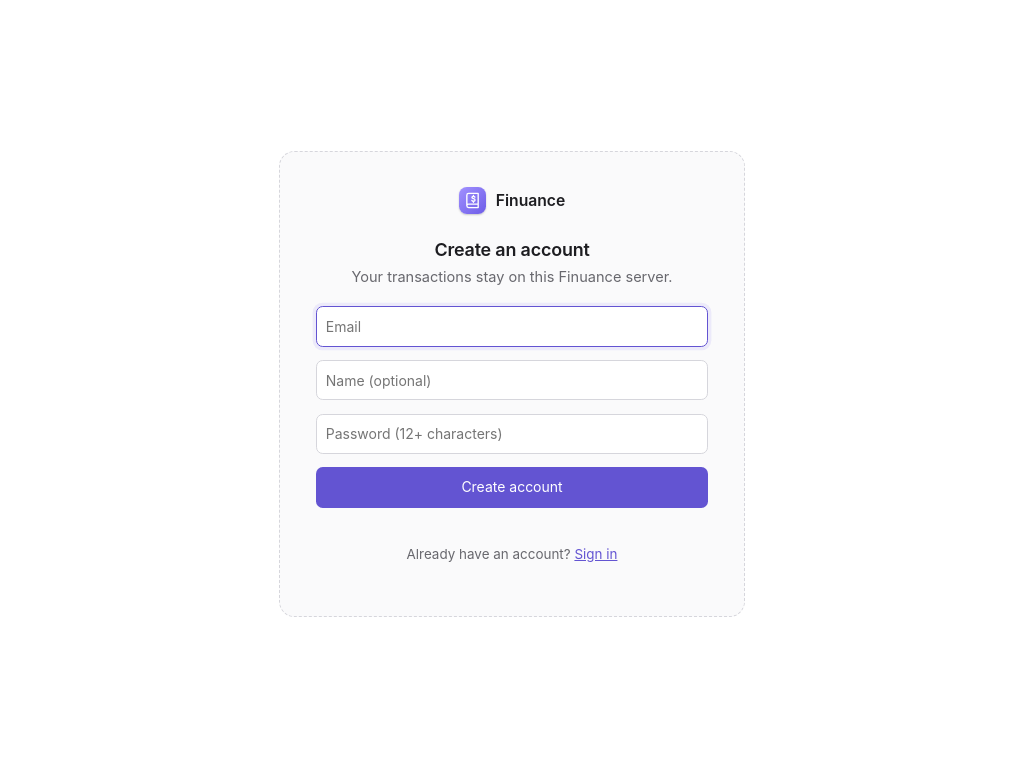
it: signup › checks the password length, then creates the account and opens the app
This screenshot has width=1024, height=768.
Type "new@example.com" into the field labelled "Email" at (512, 326), box top-left (316, 306), bottom-right (708, 346)
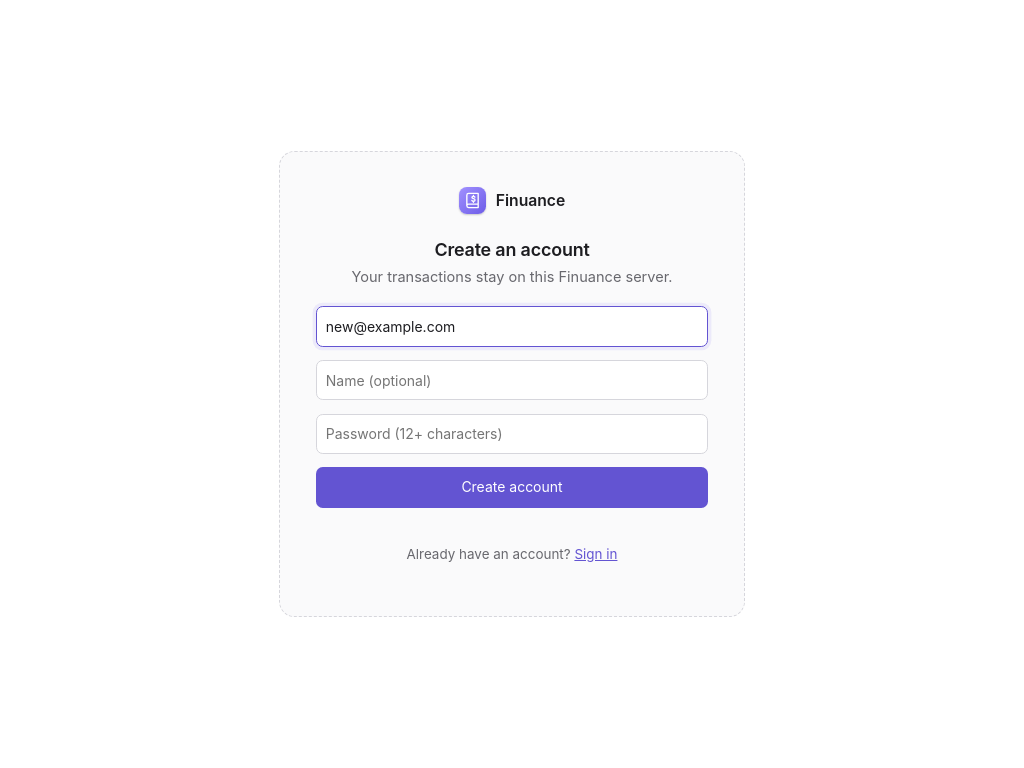
Type "short" into the password field labelled "Password" at (512, 434), box top-left (316, 414), bottom-right (708, 454)
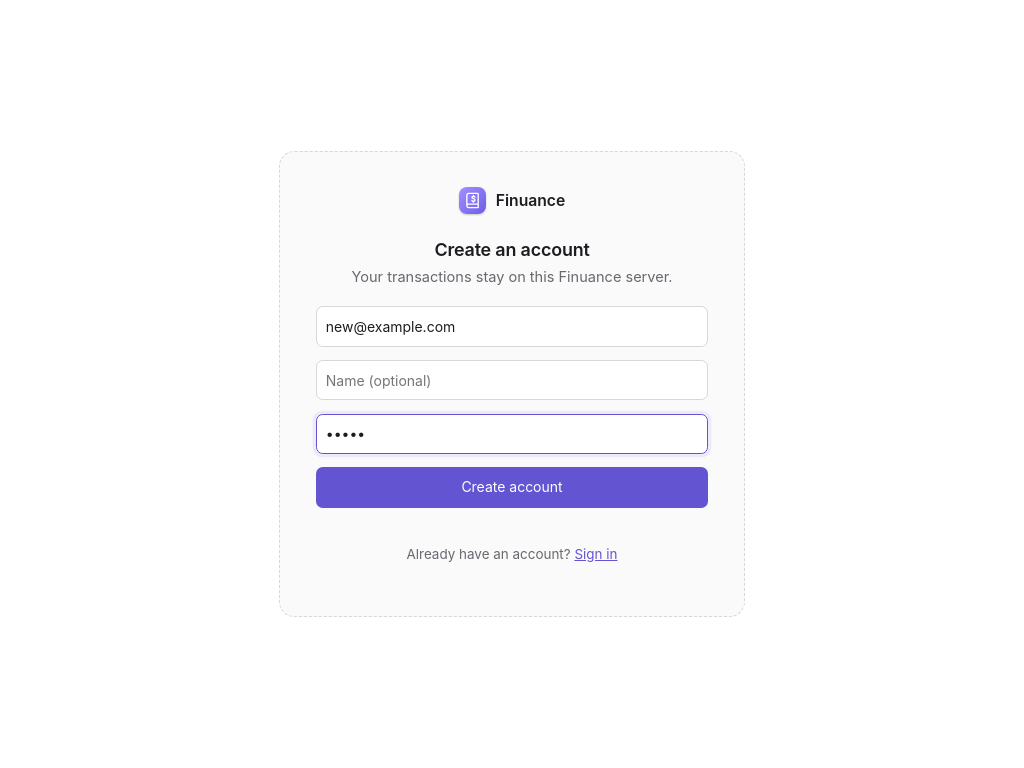
Click the button "Create account" at (512, 488), box top-left (316, 468), bottom-right (708, 508)
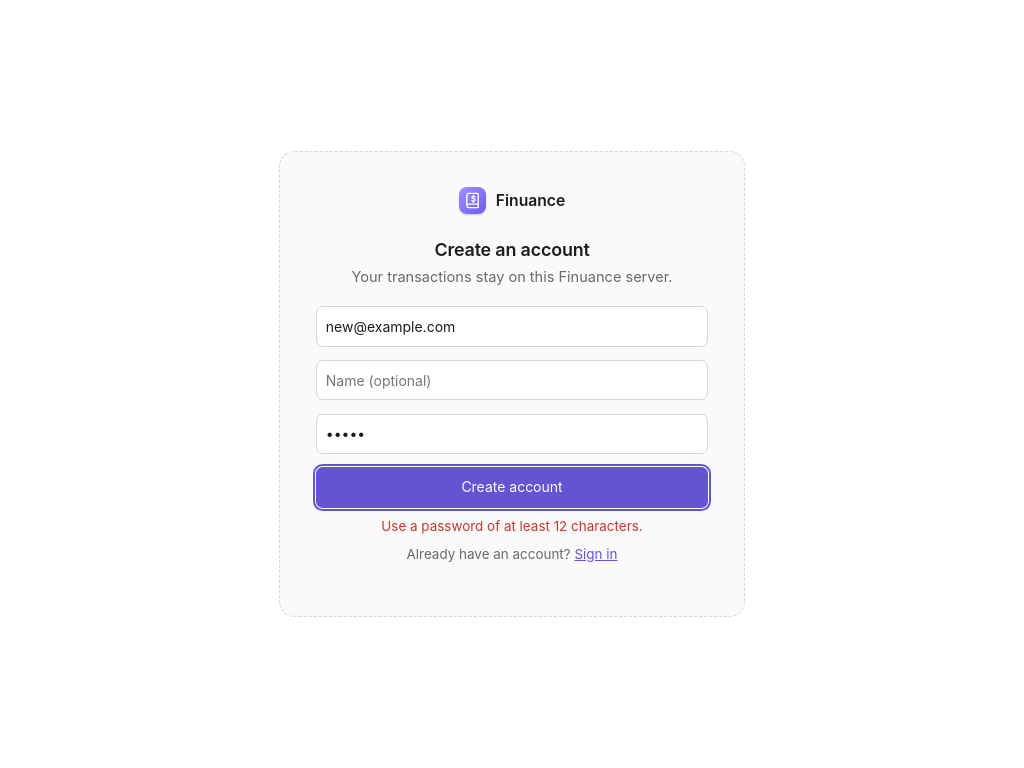
expect the text "Use a password of at least 12 characters." is shown: met, box top-left (381, 518), bottom-right (643, 534)
Type " but longer now" into the password field named "Password" at (512, 434), box top-left (316, 414), bottom-right (708, 454)
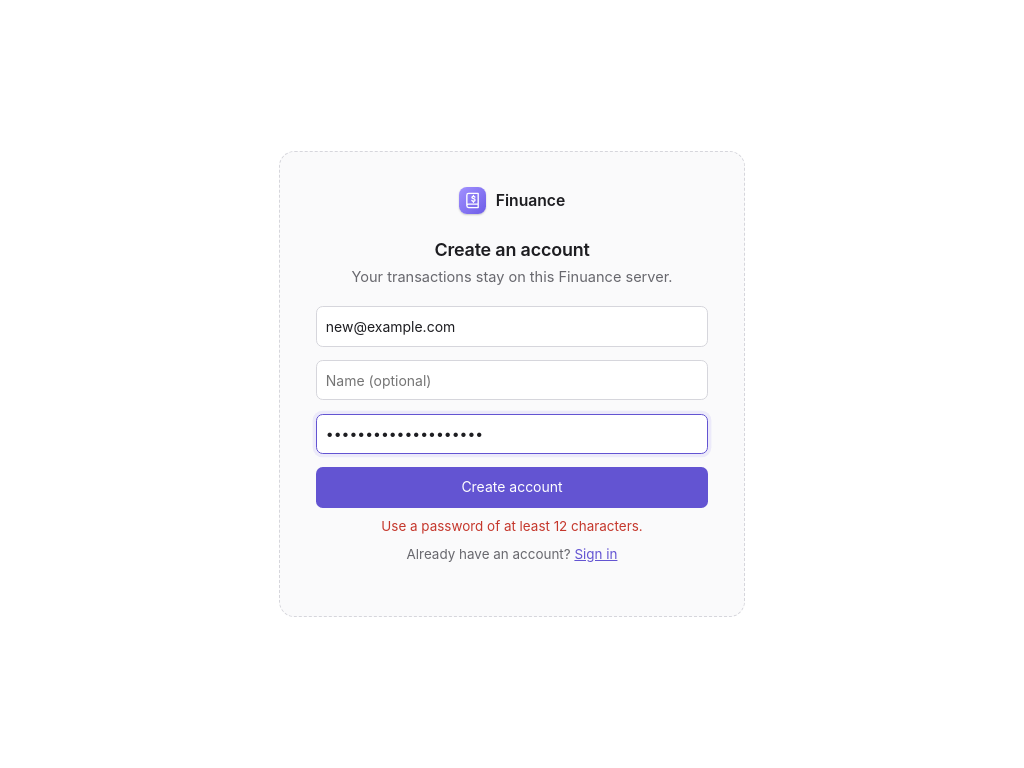
Click the button "Create account" at (512, 488), box top-left (316, 468), bottom-right (708, 508)
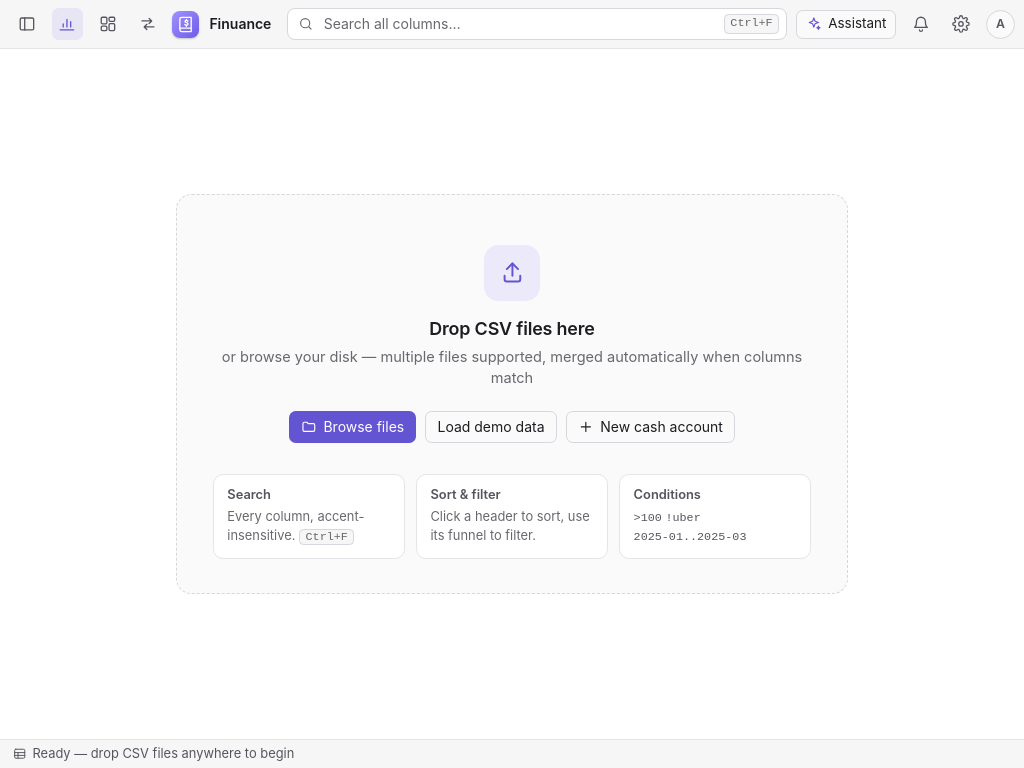
expect the heading "Drop CSV files here" is shown: met, box top-left (429, 318), bottom-right (595, 339)
